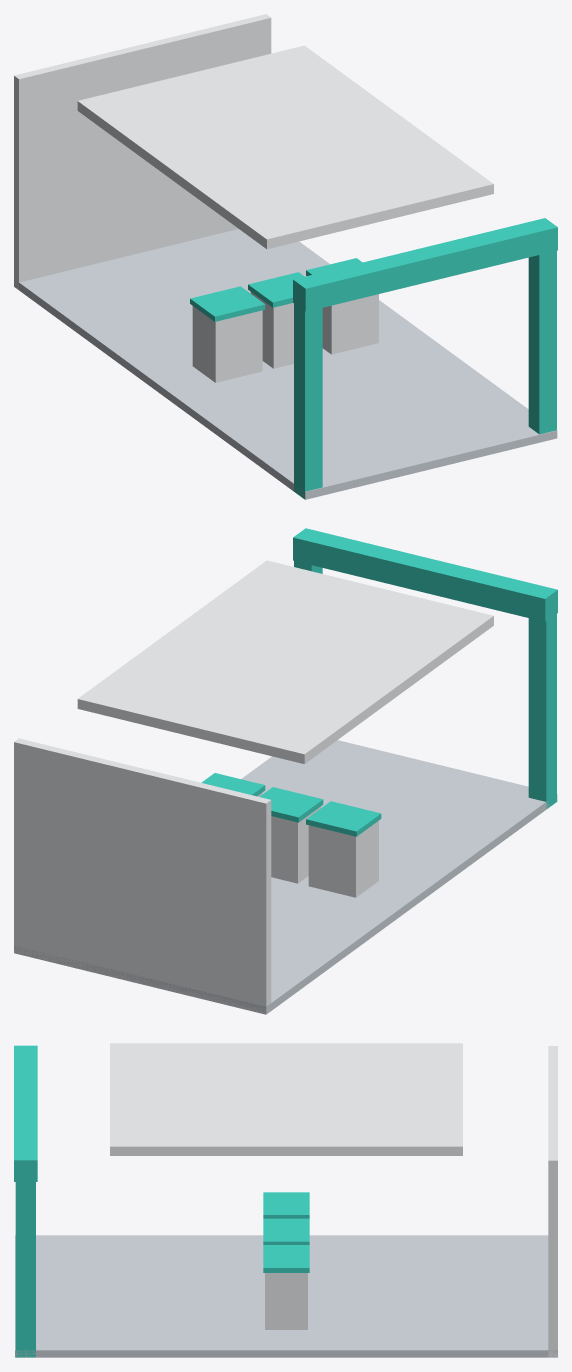
3 views of the same model, one above another, from view 1: azimuth 30°, elevation 25°; view 2: azimuth 150°, elevation 25°; view 3: azimuth 270°, elevation 25° (orthographic). The views are drawn at different scales.
Parts seen in each view (by area): view 1: Exhibition Booth Concept; view 2: Exhibition Booth Concept; view 3: Exhibition Booth Concept.
Part boxes in pixels (x1=…): Exhibition Booth Concept: x1=14, y1=14, x2=557, y2=499; Exhibition Booth Concept: x1=14, y1=528, x2=557, y2=1014; Exhibition Booth Concept: x1=14, y1=1043, x2=557, y2=1357.
Bounding box in the file's own units: 4 × 3.34 × 8.01.
